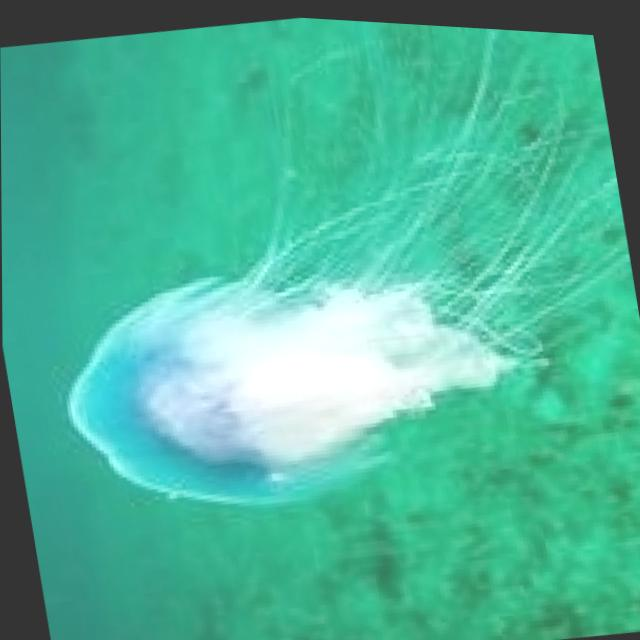Moon-jellyfish: (4, 0, 640, 550)
